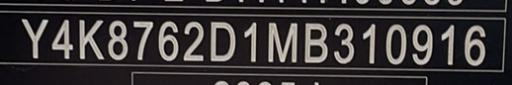letter: (265, 18, 305, 65), (205, 19, 239, 64), (300, 20, 332, 67), (463, 21, 493, 70), (20, 16, 52, 59), (77, 17, 107, 62), (381, 20, 411, 65), (436, 18, 462, 69), (128, 17, 156, 62), (410, 22, 438, 67), (330, 20, 358, 63), (49, 16, 75, 61), (104, 17, 130, 62), (182, 19, 208, 64), (156, 18, 182, 61), (359, 20, 381, 67), (241, 19, 261, 64)
